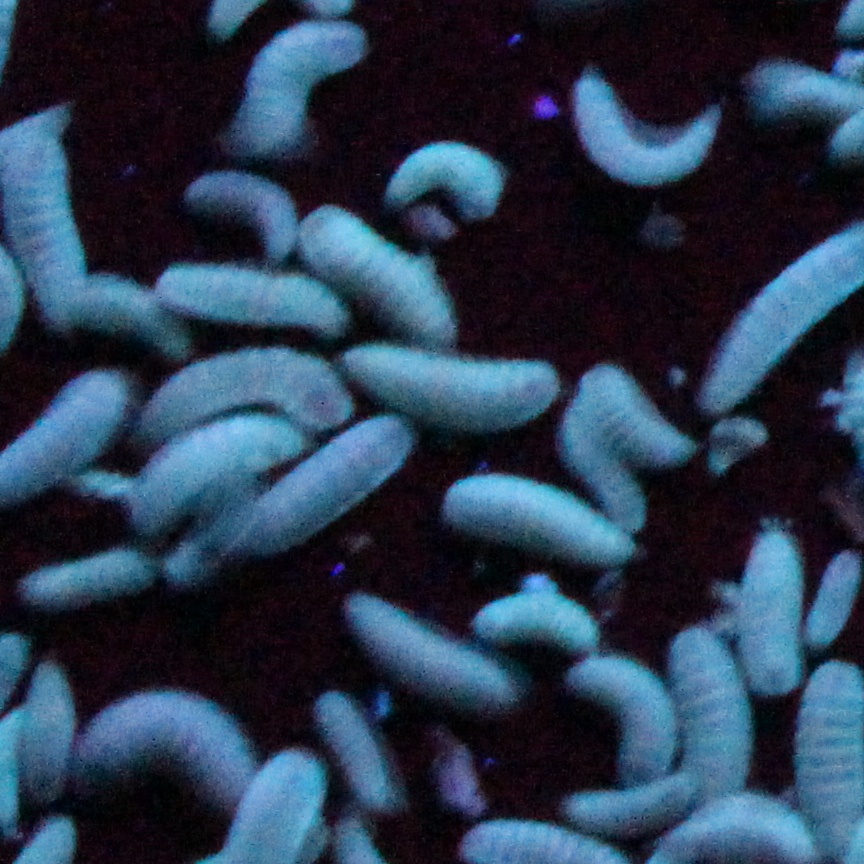larve: (257, 407, 396, 554), (313, 212, 454, 349), (233, 21, 357, 156), (140, 408, 280, 524), (342, 610, 501, 710), (156, 263, 352, 342), (85, 694, 243, 791), (456, 471, 622, 561), (3, 359, 124, 475), (15, 136, 87, 326), (156, 357, 345, 426), (568, 657, 664, 771), (582, 82, 701, 173), (349, 361, 554, 412), (803, 668, 861, 829), (689, 794, 813, 864), (594, 373, 689, 463), (747, 536, 801, 691), (680, 638, 734, 791), (199, 177, 294, 261), (563, 417, 634, 522), (477, 591, 592, 654), (401, 136, 503, 207), (315, 694, 385, 796), (26, 545, 154, 598), (24, 661, 70, 807), (92, 273, 175, 347), (570, 792, 682, 829), (815, 552, 852, 643)
